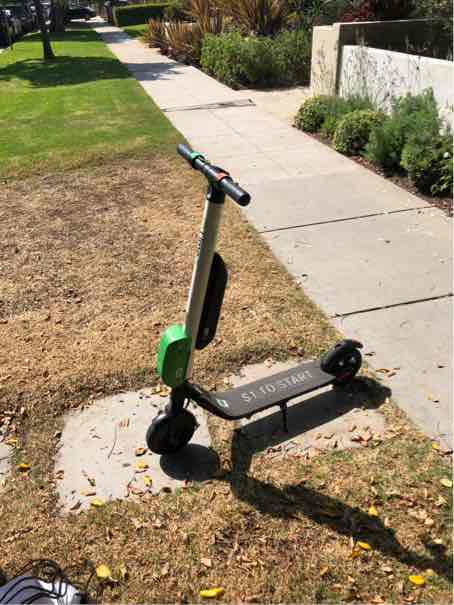scooter: (147, 143, 378, 472)
